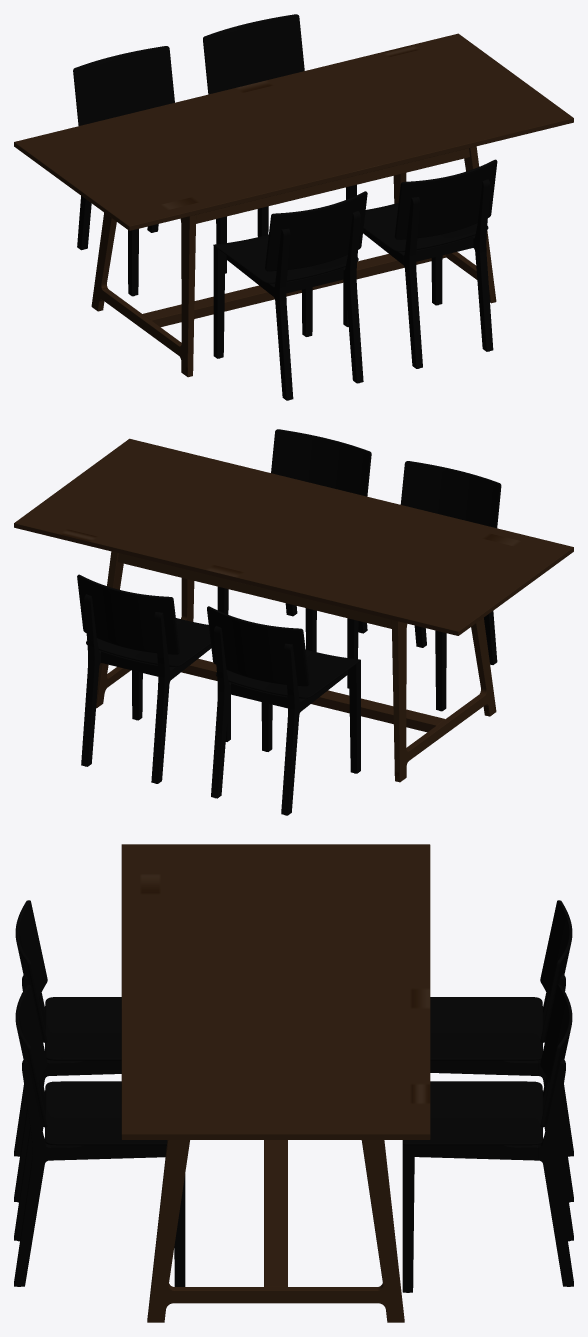
The model's file is Project Name.glb.
The picture shows the model from 3 angles, top to bottom: view 1: azimuth 30°, elevation 25°; view 2: azimuth 150°, elevation 25°; view 3: azimuth 270°, elevation 25°; orthographic projection. The views are drawn at different scales.
Visible parts, largest first — view 1: Zeitraum_Tavola, Zeitraum_Finn002, Zeitraum_Finn003, Zeitraum_Finn001, Zeitraum_Finn; view 2: Zeitraum_Tavola, Zeitraum_Finn001, Zeitraum_Finn, Zeitraum_Finn002, Zeitraum_Finn003; view 3: Zeitraum_Tavola, Zeitraum_Finn, Zeitraum_Finn003, Zeitraum_Finn001, Zeitraum_Finn002.
Part boxes in pixels (x1=…): Zeitraum_Tavola: x1=14, y1=33, x2=573, y2=377; Zeitraum_Finn002: x1=213, y1=191, x2=367, y2=400; Zeitraum_Finn003: x1=343, y1=159, x2=497, y2=368; Zeitraum_Finn001: x1=73, y1=46, x2=226, y2=296; Zeitraum_Finn: x1=203, y1=14, x2=356, y2=236; Zeitraum_Tavola: x1=14, y1=438, x2=573, y2=782; Zeitraum_Finn001: x1=207, y1=606, x2=360, y2=815; Zeitraum_Finn: x1=77, y1=574, x2=230, y2=783; Zeitraum_Finn002: x1=347, y1=461, x2=501, y2=711; Zeitraum_Finn003: x1=217, y1=429, x2=371, y2=651; Zeitraum_Tavola: x1=121, y1=844, x2=430, y2=1322; Zeitraum_Finn: x1=402, y1=984, x2=573, y2=1292; Zeitraum_Finn003: x1=14, y1=984, x2=185, y2=1286; Zeitraum_Finn001: x1=430, y1=900, x2=573, y2=1202; Zeitraum_Finn002: x1=14, y1=900, x2=121, y2=1202.
Size of the model in its own units: 2 by 0.7988 by 1.63.
Materials: 5 (1 with a texture image).
